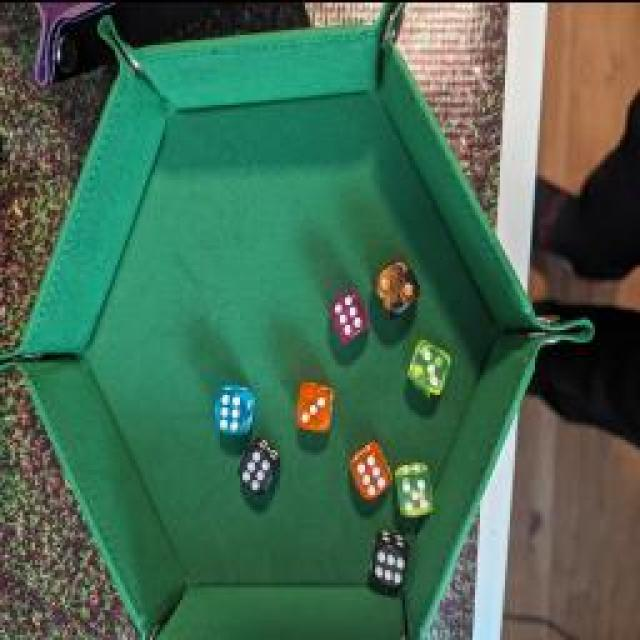dice_2: (371, 250, 421, 312)
dice_3: (405, 332, 457, 398), (292, 373, 338, 435)
dice_5: (394, 451, 434, 524)
dice_6: (350, 432, 392, 500), (212, 374, 256, 438), (238, 434, 282, 498), (368, 528, 412, 592), (325, 285, 370, 340)
